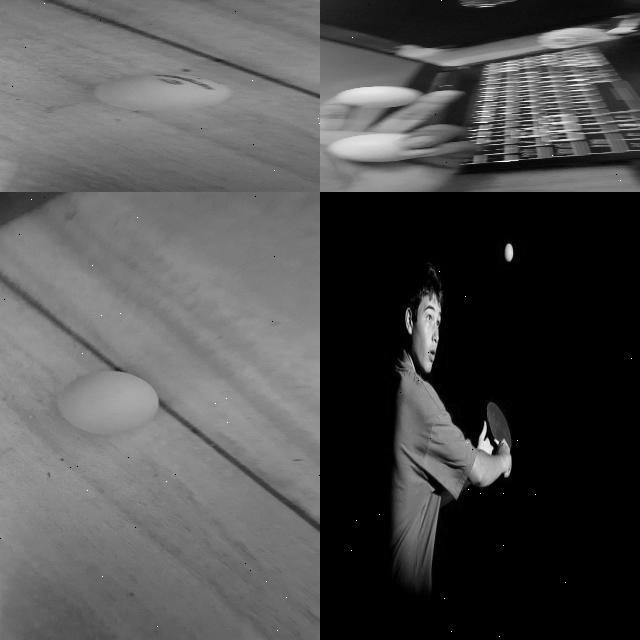ping-pong-ball: (58, 370, 157, 433), (93, 74, 228, 111), (326, 133, 416, 163), (335, 85, 422, 108), (504, 242, 512, 260)
